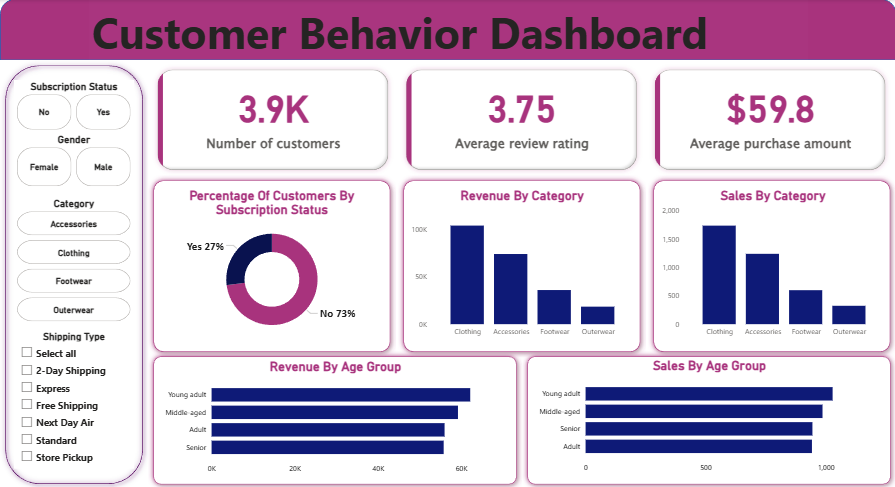

This screenshot's page, from the dashboard's own definition file:
{"tool":"powerbi","page":{"name":"Page 1","canvas":[1500,820],"ordinal":0},"visuals":[{"type":"shape","box":[1085.3,295.3,414.7,305.1],"z":0,"group":"g1"},{"type":"cardVisual","fields":{"Data":["Public Customer.Number of customers","Public Customer.Average review rating","Public Customer.Average purchase amount"]},"box":[248,102.4,1252,200.8],"z":0},{"type":"shape","box":[0,0,1500,102.4],"z":1000},{"type":"shape","box":[248,295.3,414.7,305.1],"z":1000,"group":"g1"},{"type":"shape","box":[248,588.6,626,232.3],"z":1000},{"type":"textbox","box":[149.6,0,1202.8,110.2],"z":2000},{"type":"shape","box":[666.7,295.3,414.7,305.1],"z":2000,"group":"g1"},{"type":"group","id":"g1","title":"Group 1","box":[248,295.3,1252,305.1],"z":3000},{"type":"donutChart","title":"Percentage Of Customers  By Subscription Status","fields":{"Category":["Public Customer.subscription_status"],"Y":["CountNonNull(Public Customer.customer_id)"]},"box":[265.7,316.9,378,257.9],"z":4000},{"type":"clusteredColumnChart","title":"Revenue By Category","fields":{"Y":["Sum(Public Customer.purchase_amount)"],"Category":["Public Customer.category"]},"box":[683.1,316.9,381.9,257.9],"z":5000},{"type":"clusteredColumnChart","title":"Sales By Category","fields":{"Category":["Public Customer.category"],"Y":["CountNonNull(Public Customer.customer_id)"]},"box":[1102.4,316.9,381.9,257.9],"z":6000},{"type":"shape","box":[0,102.4,248,718.5],"z":7000},{"type":"advancedSlicerVisual","title":"Subscription Status","fields":{"Values":["Public Customer.subscription_status"]},"box":[23.6,135.8,200.8,88.6],"z":8000},{"type":"advancedSlicerVisual","title":"Gender","fields":{"Values":["Public Customer.gender"]},"box":[23.6,224.4,200.8,94.5],"z":9000},{"type":"advancedSlicerVisual","title":"Category","fields":{"Values":["Public Customer.category"]},"box":[23.6,330.7,200.8,214.6],"z":10000},{"type":"slicer","title":"Shipping Type","fields":{"Values":["Public Customer.shipping_type"]},"box":[23.6,553.1,200.8,232.3],"z":11000},{"type":"clusteredBarChart","title":"Revenue By Age Group","fields":{"Category":["Public Customer.age_group"],"Y":["Sum(Public Customer.purchase_amount)"]},"box":[265.7,602.4,590.6,200.8],"z":11001},{"type":"shape","box":[874,588.6,626,232.3],"z":11002},{"type":"clusteredBarChart","title":"Sales By Age Group","fields":{"Category":["Public Customer.age_group"],"Y":["CountNonNull(Public Customer.customer_id)"]},"box":[891.7,600.4,590.6,200.8],"z":11003}]}

Visuals, with their boxes in screenshot pixels (x1, y1, x2, y2), scaled from the page's 1500x820 canvas onto the 895x487 screenshot:
shape: box=[648, 175, 894, 357]
cardVisual - Public Customer.Number of customers x Public Customer.Average review rating: box=[148, 61, 894, 180]
shape: box=[0, 0, 894, 61]
shape: box=[148, 175, 395, 357]
shape: box=[148, 350, 521, 486]
textbox: box=[89, 0, 807, 65]
shape: box=[398, 175, 645, 357]
"Group 1" group: box=[148, 175, 894, 357]
"Percentage Of Customers  By Subscription Status" donutChart: box=[159, 188, 384, 341]
"Revenue By Category" clusteredColumnChart: box=[408, 188, 635, 341]
"Sales By Category" clusteredColumnChart: box=[658, 188, 886, 341]
shape: box=[0, 61, 148, 486]
"Subscription Status" advancedSlicerVisual: box=[14, 81, 134, 133]
"Gender" advancedSlicerVisual: box=[14, 133, 134, 189]
"Category" advancedSlicerVisual: box=[14, 196, 134, 324]
"Shipping Type" slicer: box=[14, 328, 134, 466]
"Revenue By Age Group" clusteredBarChart: box=[159, 358, 511, 477]
shape: box=[521, 350, 894, 486]
"Sales By Age Group" clusteredBarChart: box=[532, 357, 884, 476]
